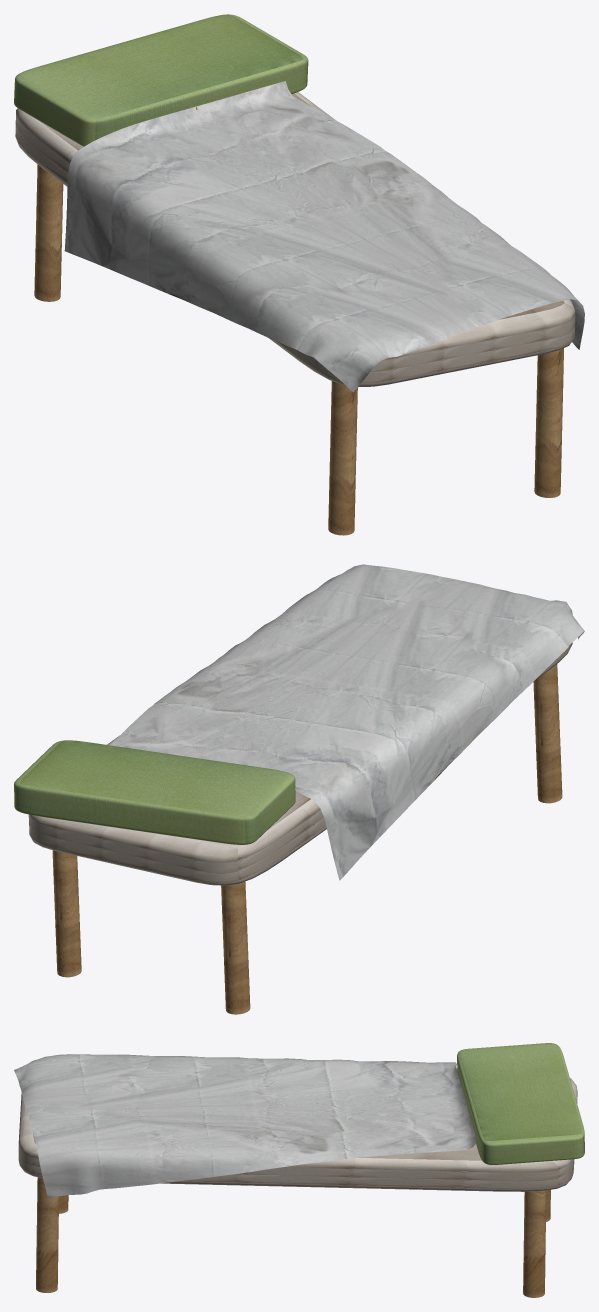
The model's file is bed.DAE.
3 renders of one model, top to bottom at view 1: azimuth 30°, elevation 25°; view 2: azimuth 150°, elevation 25°; view 3: azimuth 270°, elevation 25°, orthographic. The views are drawn at different scales.
Visible parts, largest first — view 1: Plane001, Box002, Box001, Tube001, Tube002, Tube004; view 2: Plane001, Box002, Box001, Tube001, Tube004, Tube003; view 3: Plane001, Box002, Box001, Tube003, Tube002.
Boxes of the visible parts, left/top/right/bottom form: Plane001: left=64, top=81, right=584, bottom=392; Box002: left=14, top=14, right=308, bottom=146; Box001: left=15, top=92, right=575, bottom=387; Tube001: left=328, top=381, right=357, bottom=535; Tube002: left=534, top=348, right=563, bottom=497; Tube004: left=34, top=164, right=63, bottom=301; Plane001: left=111, top=564, right=584, bottom=880; Box002: left=14, top=740, right=295, bottom=844; Box001: left=28, top=642, right=572, bottom=885; Tube001: left=533, top=664, right=562, bottom=803; Tube004: left=221, top=881, right=250, bottom=1014; Tube003: left=52, top=850, right=81, bottom=977; Plane001: left=14, top=1054, right=476, bottom=1198; Box002: left=457, top=1043, right=584, bottom=1164; Box001: left=18, top=1067, right=577, bottom=1191; Tube003: left=523, top=1190, right=546, bottom=1297; Tube002: left=36, top=1177, right=58, bottom=1292.
Size of the model in its own units: 48.39 by 111 by 37.39.
Materials: 4 (4 with a texture image).
